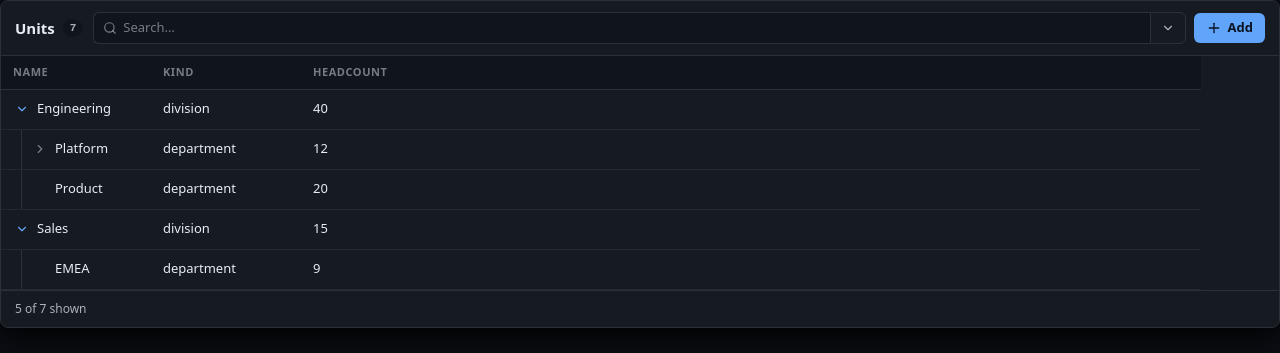
it: DataGrid tree mode › search, filters and sorting › shows the no-results state when nothing at any depth matches
Type "zzz" into the search field at (632, 28), box left=123, top=16, right=1141, bottom=40
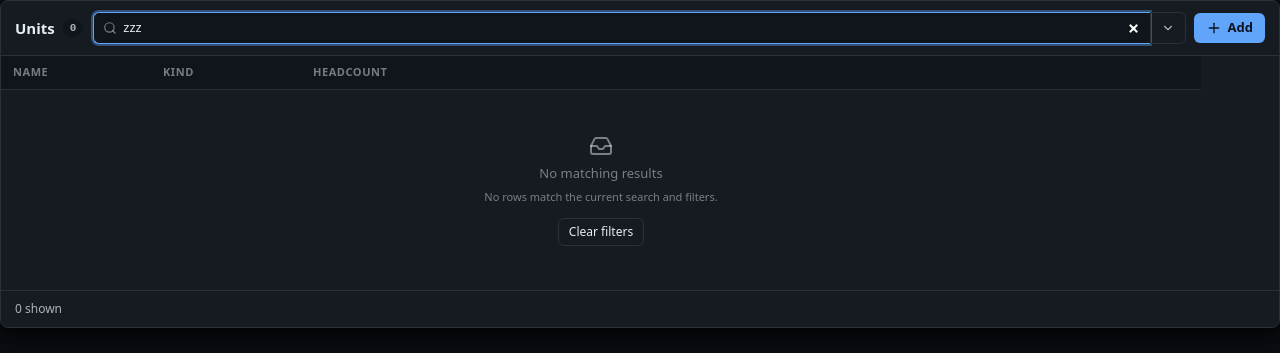
Result: the button "Clear filters" is shown at left=558, top=218, right=644, bottom=246
